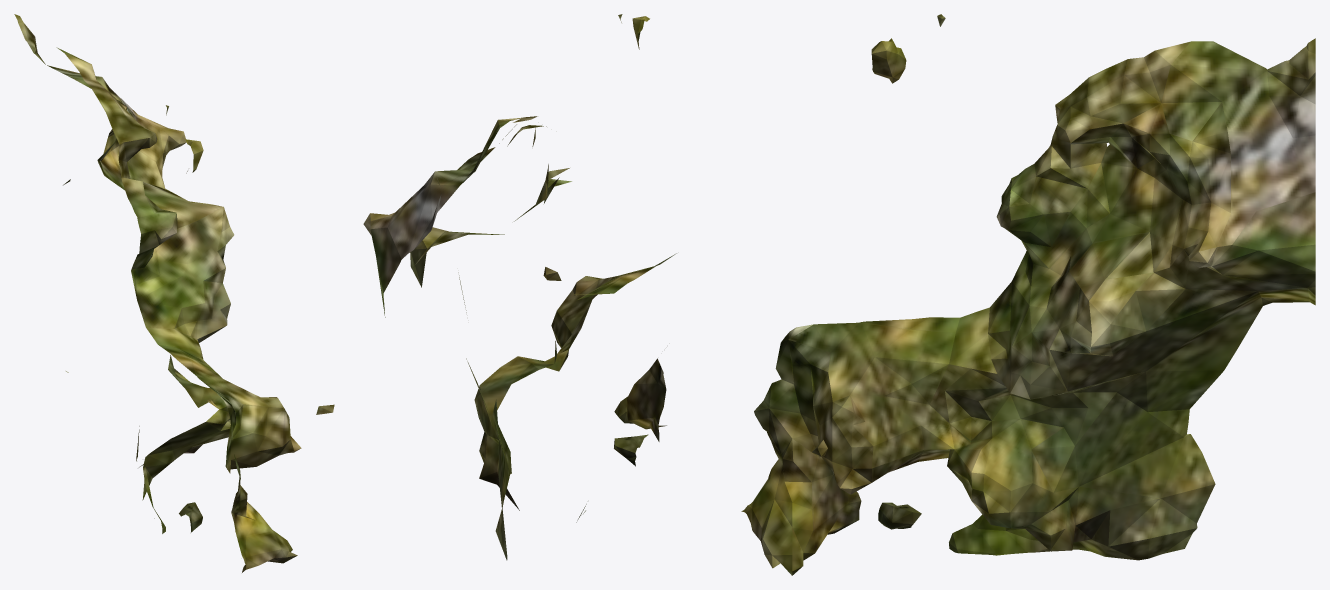
3 views of the same model, side by side, from view 1: azimuth 30°, elevation 25°; view 2: azimuth 150°, elevation 25°; view 3: azimuth 270°, elevation 25° (orthographic). The views are drawn at different scales.
Bounding box in the file's own units: 0.7713 × 2.46 × 2.39.
2 materials, 2 textured.
